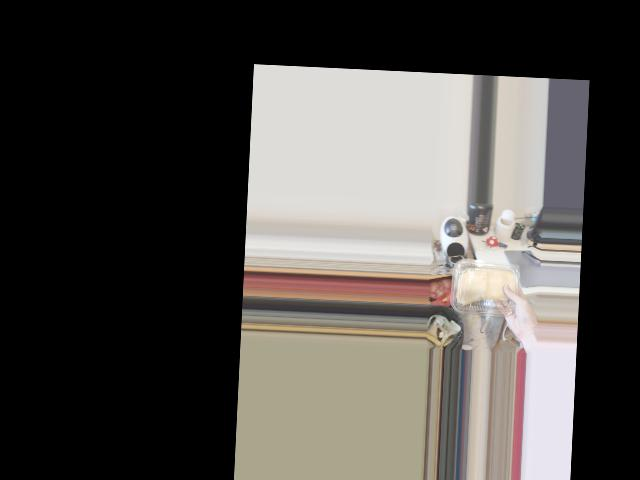cheese: (455, 253, 518, 320)
